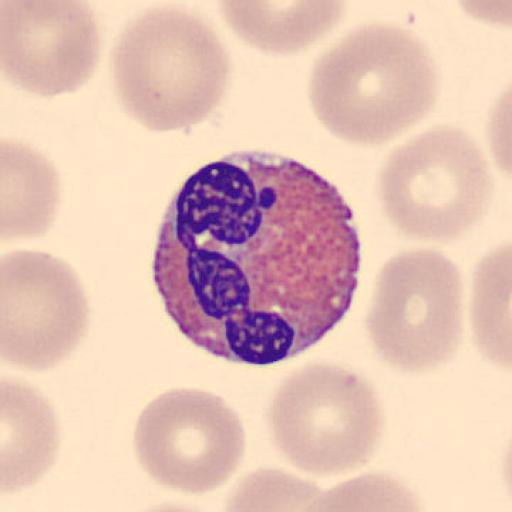RBC: (306, 20, 441, 149), (110, 2, 233, 135), (374, 123, 496, 244), (265, 358, 388, 478), (364, 246, 465, 376), (132, 386, 248, 497), (2, 248, 92, 373), (1, 0, 103, 99), (2, 374, 63, 496), (215, 0, 347, 56), (2, 136, 65, 245), (287, 469, 430, 512), (469, 240, 512, 370), (218, 465, 328, 512), (486, 84, 512, 198), (451, 0, 512, 27), (119, 499, 227, 512)
WBC: (148, 155, 364, 367)
